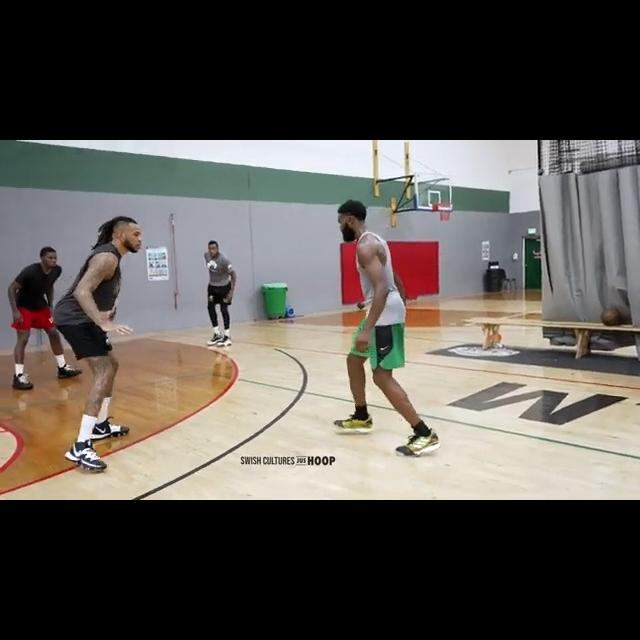basketball: (599, 306, 623, 328)
hoop: (434, 202, 453, 222)
person: (331, 197, 441, 458), (57, 208, 142, 473), (6, 235, 83, 393), (204, 238, 237, 349)
